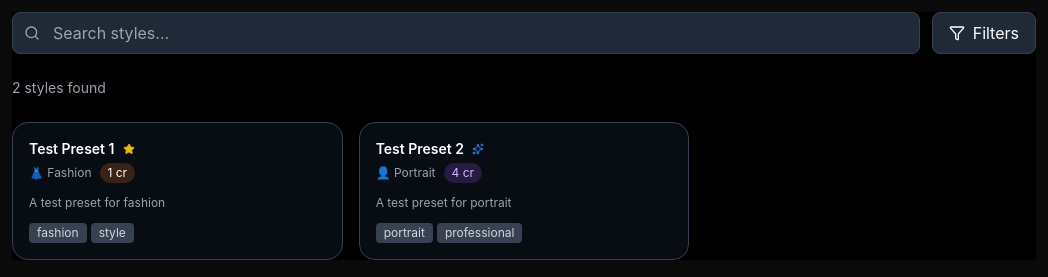
PresetGrid › should show no results message when no presets match
The image size is (1048, 277).
Type "nonexistent" into the field with placeholder "Search styles..." at (466, 33), box [12, 12, 920, 54]
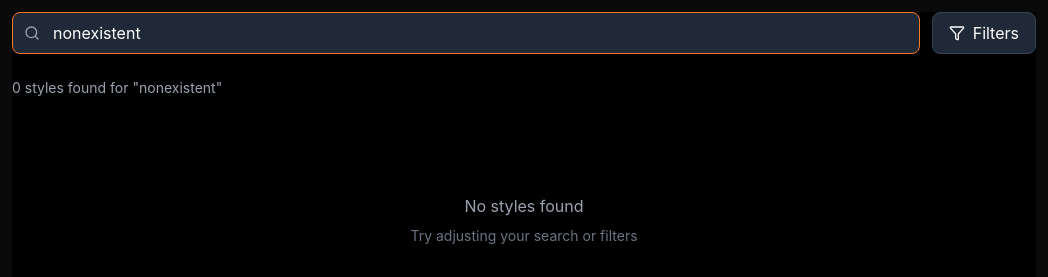
Expected: the text "No styles found" is shown, [464, 196, 584, 216]
Expected: the text "Try adjusting your search or filters" is shown, [410, 227, 638, 244]
